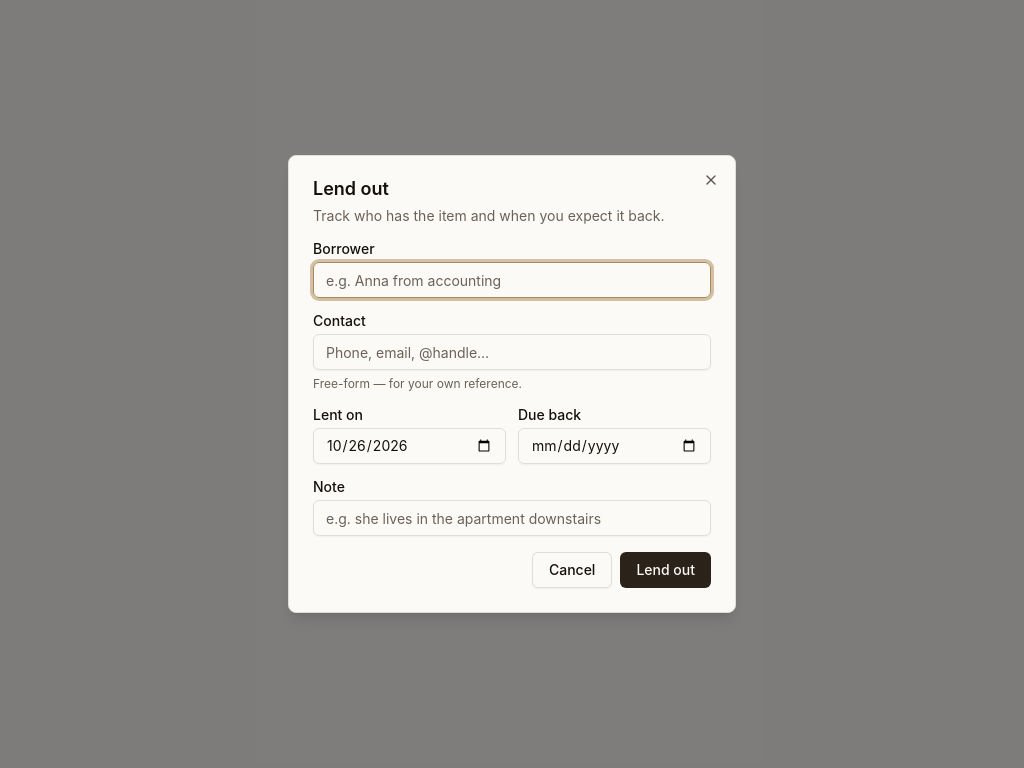
Test case: <LendDialog /> › blocks submit when borrower_name is empty
Click the button with test id "lend-submit".
click(666, 570)  # box [620, 552, 711, 588]
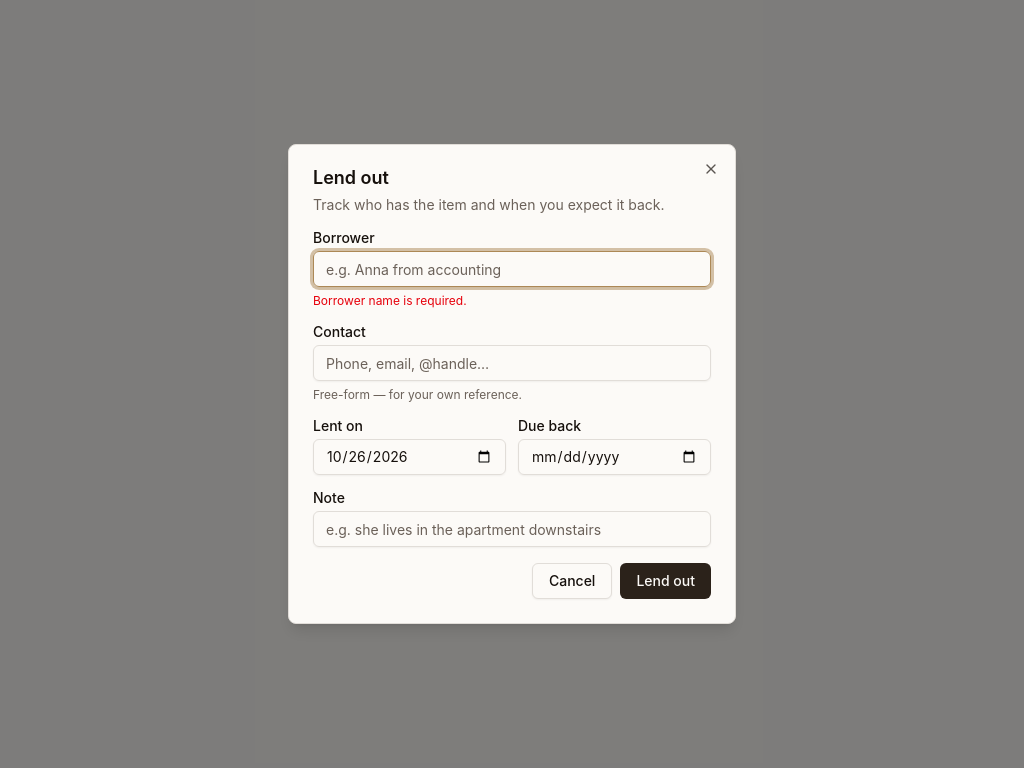
Now the text "Borrower name is required." is shown, box [313, 293, 467, 308]
